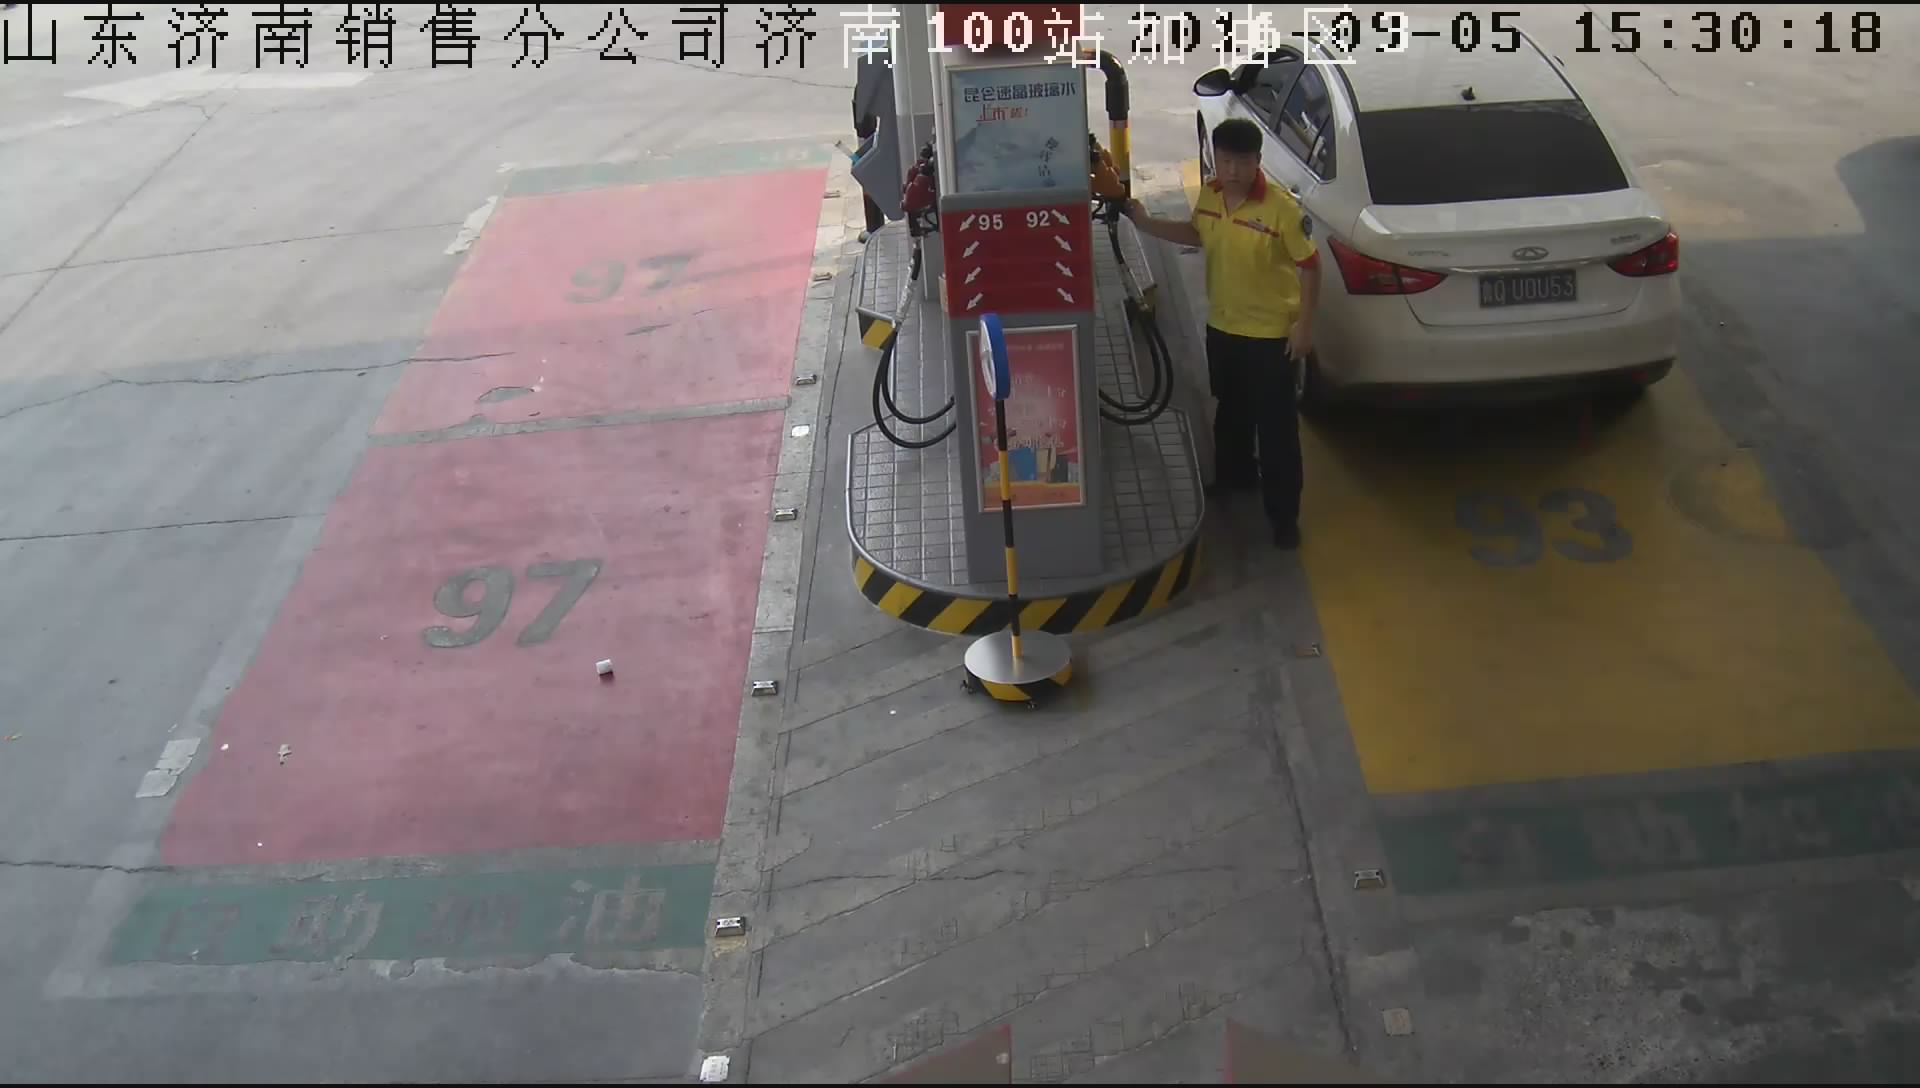blue: (1480, 268, 1580, 314)
